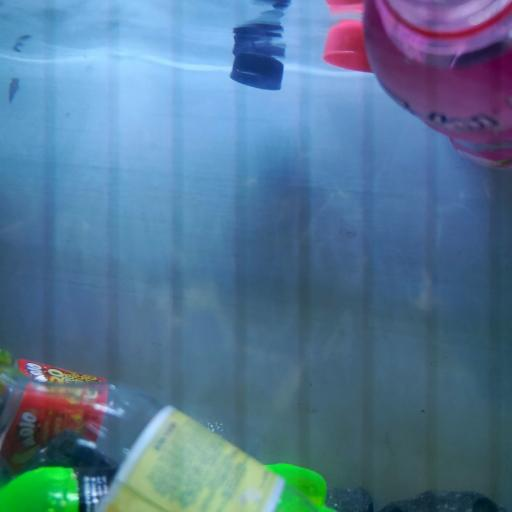bottle_cap: (323, 23, 375, 72), (230, 54, 285, 90)
plastic_bottle: (0, 367, 322, 512), (0, 351, 267, 468), (361, 1, 512, 168), (0, 464, 339, 512)
